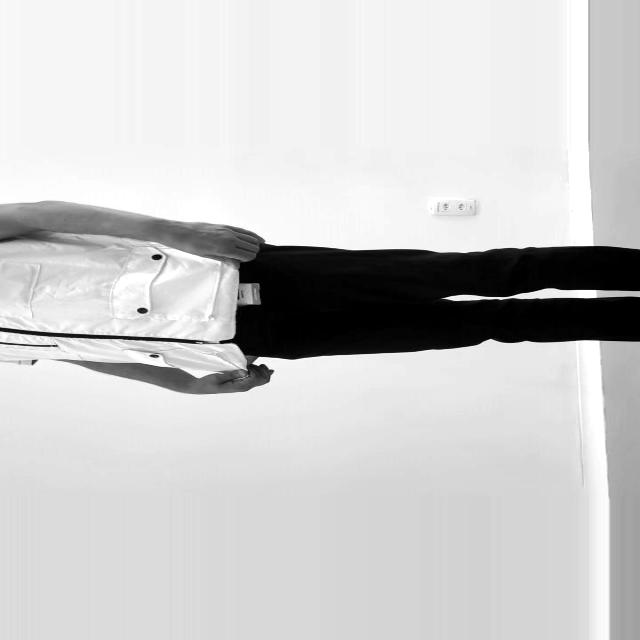Vest: (3, 250, 236, 370)
